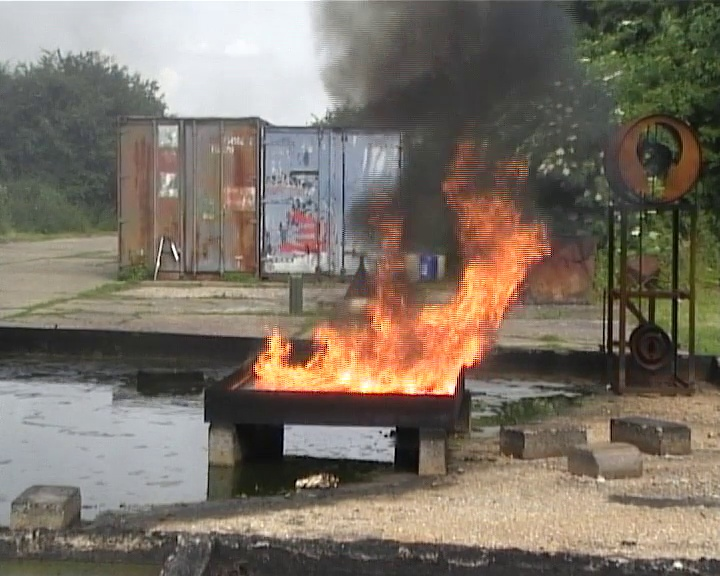fire: (254, 205, 540, 394)
